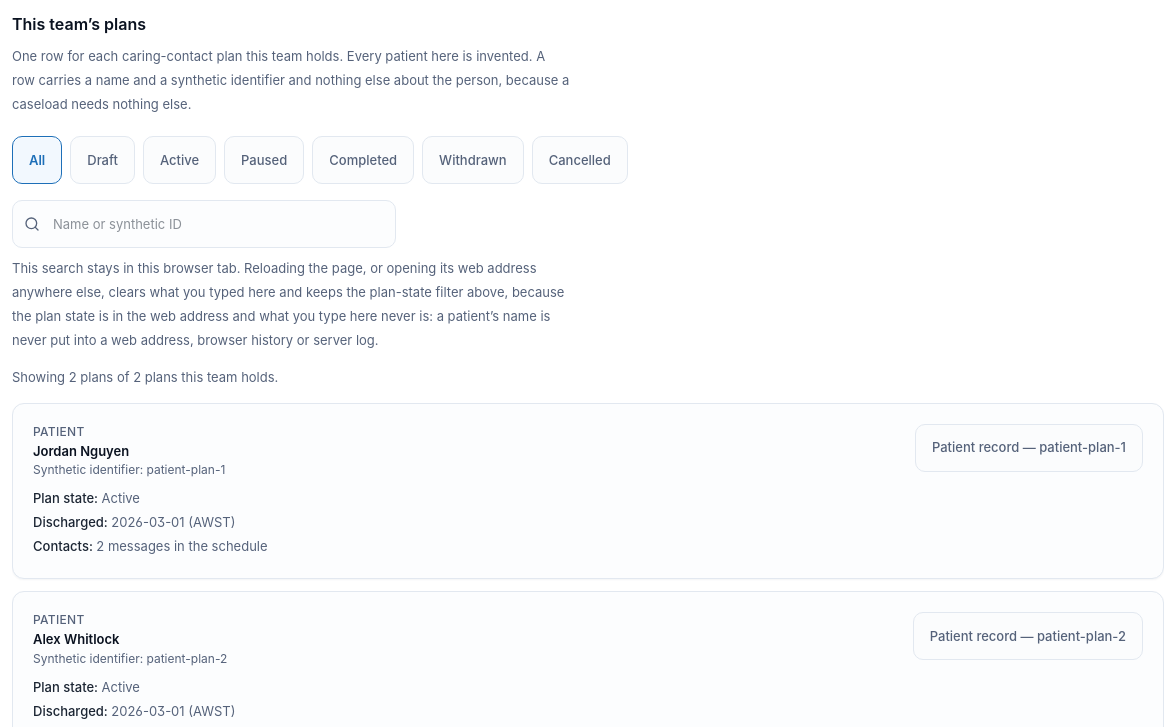
Test: Patients directory - RULING [111]: a patient's name never reaches a URL › finds the row by name, and puts no part of that name into any address on the screen
Expected: the heading "Jordan Nguyen" is shown, left=33, top=443, right=129, bottom=459
Type "Jordan Nguyen" into the search field at (204, 224), box left=12, top=200, right=396, bottom=248
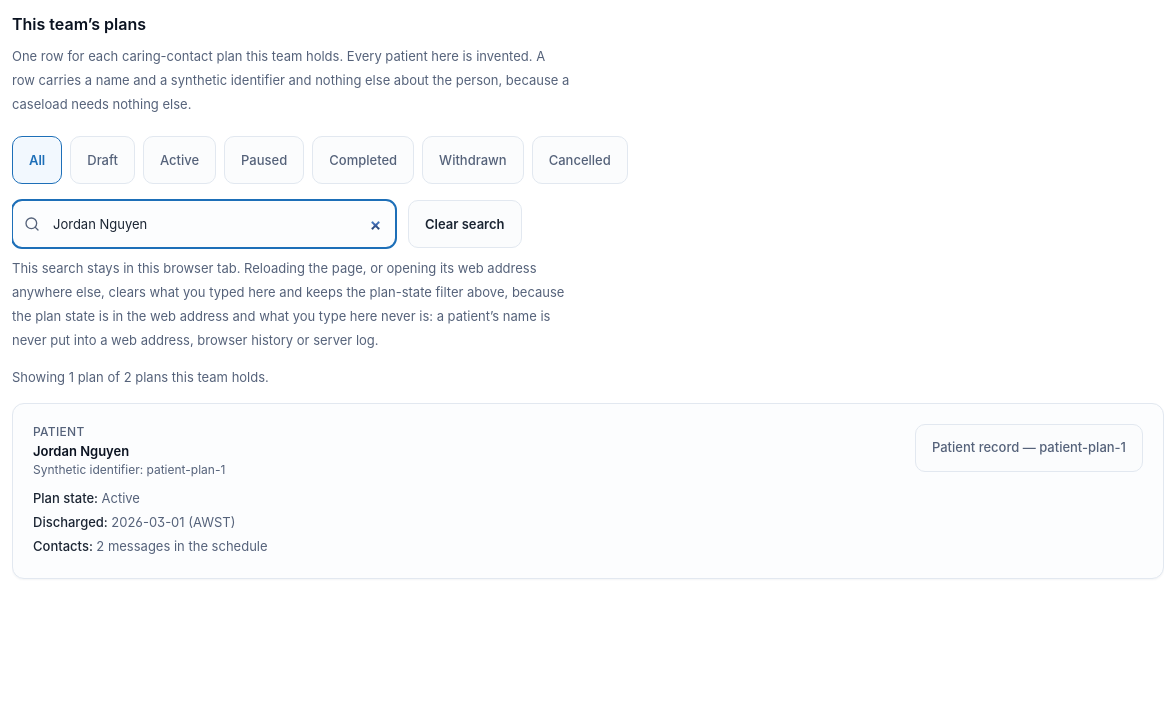
Expected: the heading "Jordan Nguyen" is shown, left=33, top=443, right=129, bottom=459
Expected: the number of list items is 1, left=12, top=403, right=1163, bottom=579
Expected: the heading "Alex Whitlock" is gone
